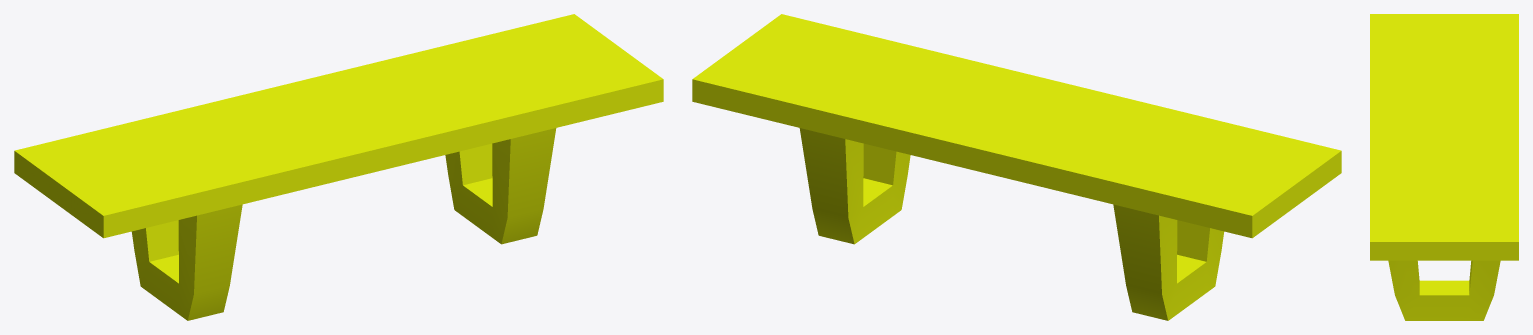
Rendered from DiningTable3.FBX.
3 renders of one model, left to right at view 1: azimuth 30°, elevation 25°; view 2: azimuth 150°, elevation 25°; view 3: azimuth 270°, elevation 25°, orthographic. The views are drawn at different scales.
Visible parts, largest first — view 1: Object001; view 2: Object001; view 3: Object001.
Part boxes in pixels (<box>): Object001: <box>14,14,663,320</box>; Object001: <box>692,14,1341,320</box>; Object001: <box>1370,14,1518,320</box>.
Bounding box in the file's own units: 6.03 × 1.5 × 1.66.
